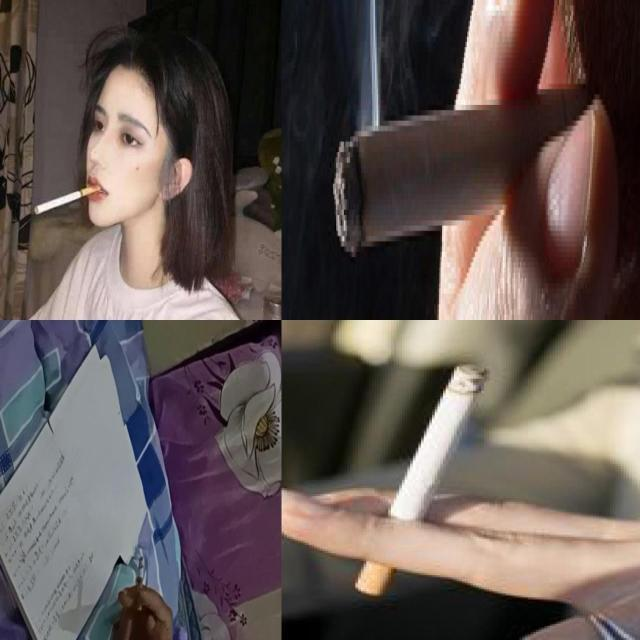smoking: (332, 83, 601, 257), (354, 361, 488, 599), (34, 186, 102, 216), (136, 556, 144, 610)
